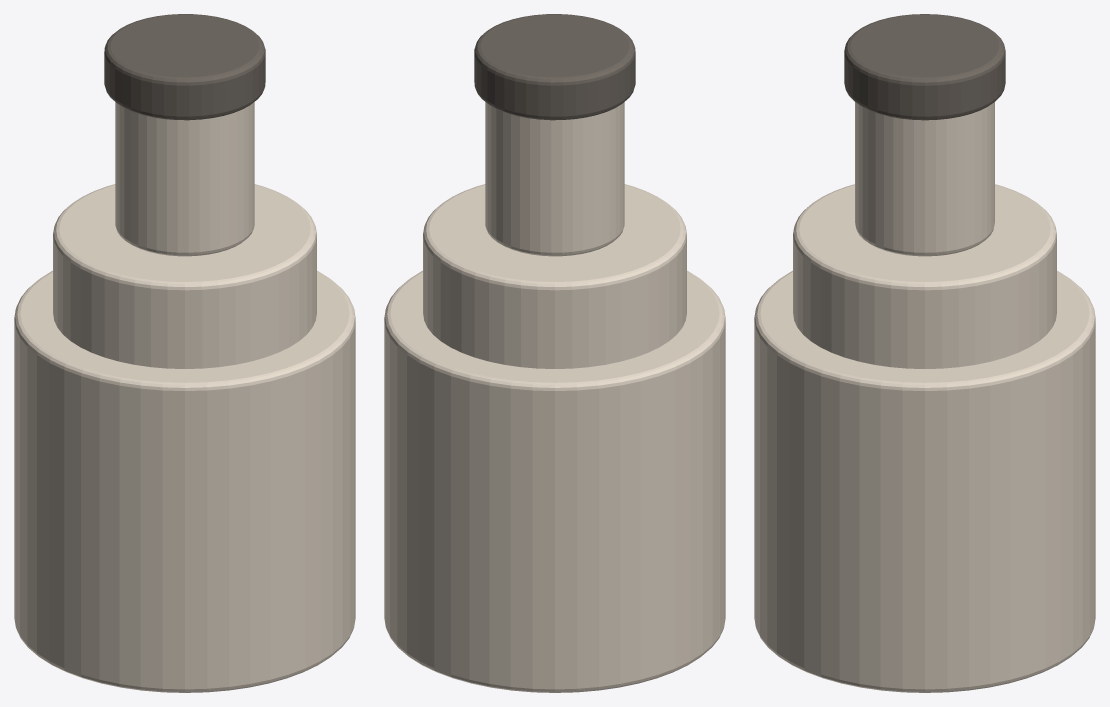
File: minimal-ceramic-vase-01.glb
The picture shows the model from 3 angles, left to right: view 1: azimuth 30°, elevation 25°; view 2: azimuth 150°, elevation 25°; view 3: azimuth 270°, elevation 25°; orthographic projection.
Visible parts, largest first — view 1: minimal-ceramic-vase-01; view 2: minimal-ceramic-vase-01; view 3: minimal-ceramic-vase-01.
Boxes of the visible parts, box(x1,y1,x2,y2) form: minimal-ceramic-vase-01: box(14, 14, 355, 692); minimal-ceramic-vase-01: box(384, 14, 725, 692); minimal-ceramic-vase-01: box(754, 14, 1095, 692).
Bounding box in the file's own units: 0.22 × 0.41 × 0.22.
